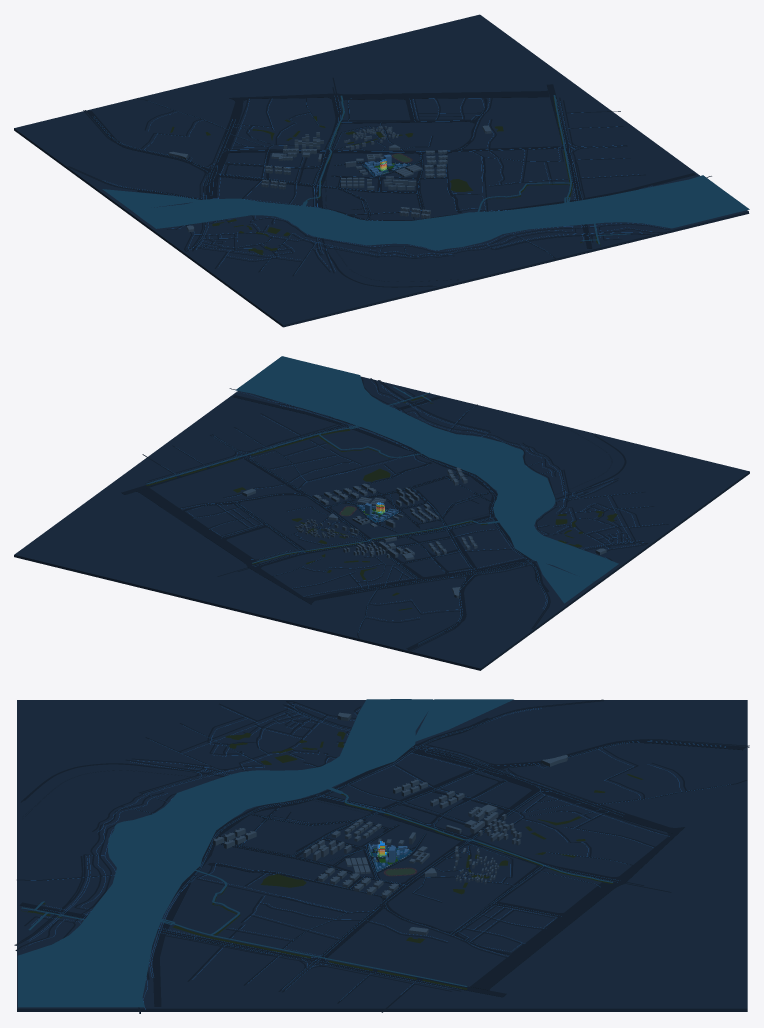
The model's file is fssy0819.glb.
3 renders of one model, top to bottom at view 1: azimuth 30°, elevation 25°; view 2: azimuth 150°, elevation 25°; view 3: azimuth 270°, elevation 25°, orthographic. The views are drawn at different scales.
Visible parts, largest first — view 1: 地平面.001, 水.001, 路-2.001, 路-绘制.001, 周边建筑6.001, 路-2-蓝-动效.001, 绿化.001; view 2: 地平面.001, 水.001, 路-2.001, 路-绘制.001, 周边建筑6.001, 路-2-蓝-动效.001, 绿化.001; view 3: 地平面.001, 水.001, 路-2.001, 路-绘制.001, 周边建筑6.001, 路-2-蓝-动效.001, 绿化.001, 路.001.
Boxes of the visible parts, left/top/right/bottom form: 地平面.001: left=14, top=14, right=749, bottom=327; 水.001: left=102, top=95, right=749, bottom=250; 路-2.001: left=67, top=94, right=711, bottom=276; 路-绘制.001: left=87, top=84, right=695, bottom=248; 周边建筑6.001: left=168, top=125, right=491, bottom=232; 路-2-蓝-动效.001: left=94, top=83, right=664, bottom=281; 绿化.001: left=170, top=97, right=600, bottom=254; 地平面.001: left=14, top=377, right=749, bottom=670; 水.001: left=146, top=356, right=618, bottom=603; 路-2.001: left=142, top=376, right=668, bottom=651; 路-绘制.001: left=121, top=395, right=548, bottom=649; 周边建筑6.001: left=242, top=467, right=606, bottom=598; 路-2-蓝-动效.001: left=168, top=384, right=662, bottom=643; 绿化.001: left=146, top=394, right=617, bottom=610; 地平面.001: left=17, top=700, right=747, bottom=1011; 水.001: left=17, top=699, right=612, bottom=1007; 路-2.001: left=14, top=699, right=749, bottom=1013; 路-绘制.001: left=19, top=717, right=745, bottom=1006; 周边建筑6.001: left=213, top=712, right=567, bottom=935; 路-2-蓝-动效.001: left=23, top=704, right=730, bottom=1009; 绿化.001: left=21, top=731, right=642, bottom=989; 路.001: left=20, top=763, right=671, bottom=892.
Size of the model in its own units: 204 by 4.85 by 202.
